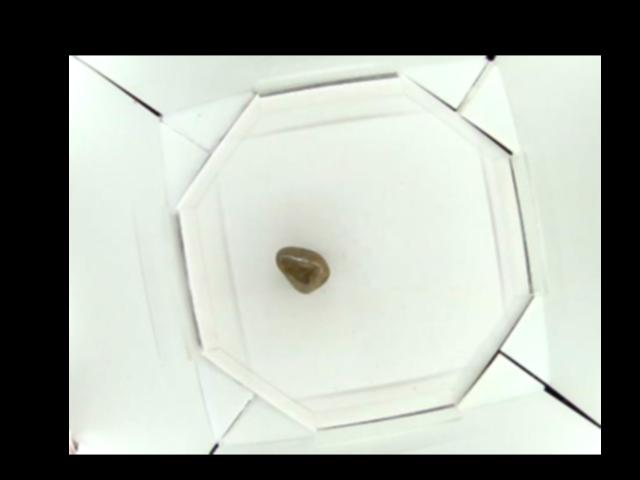Pebble: (274, 244, 331, 294)
